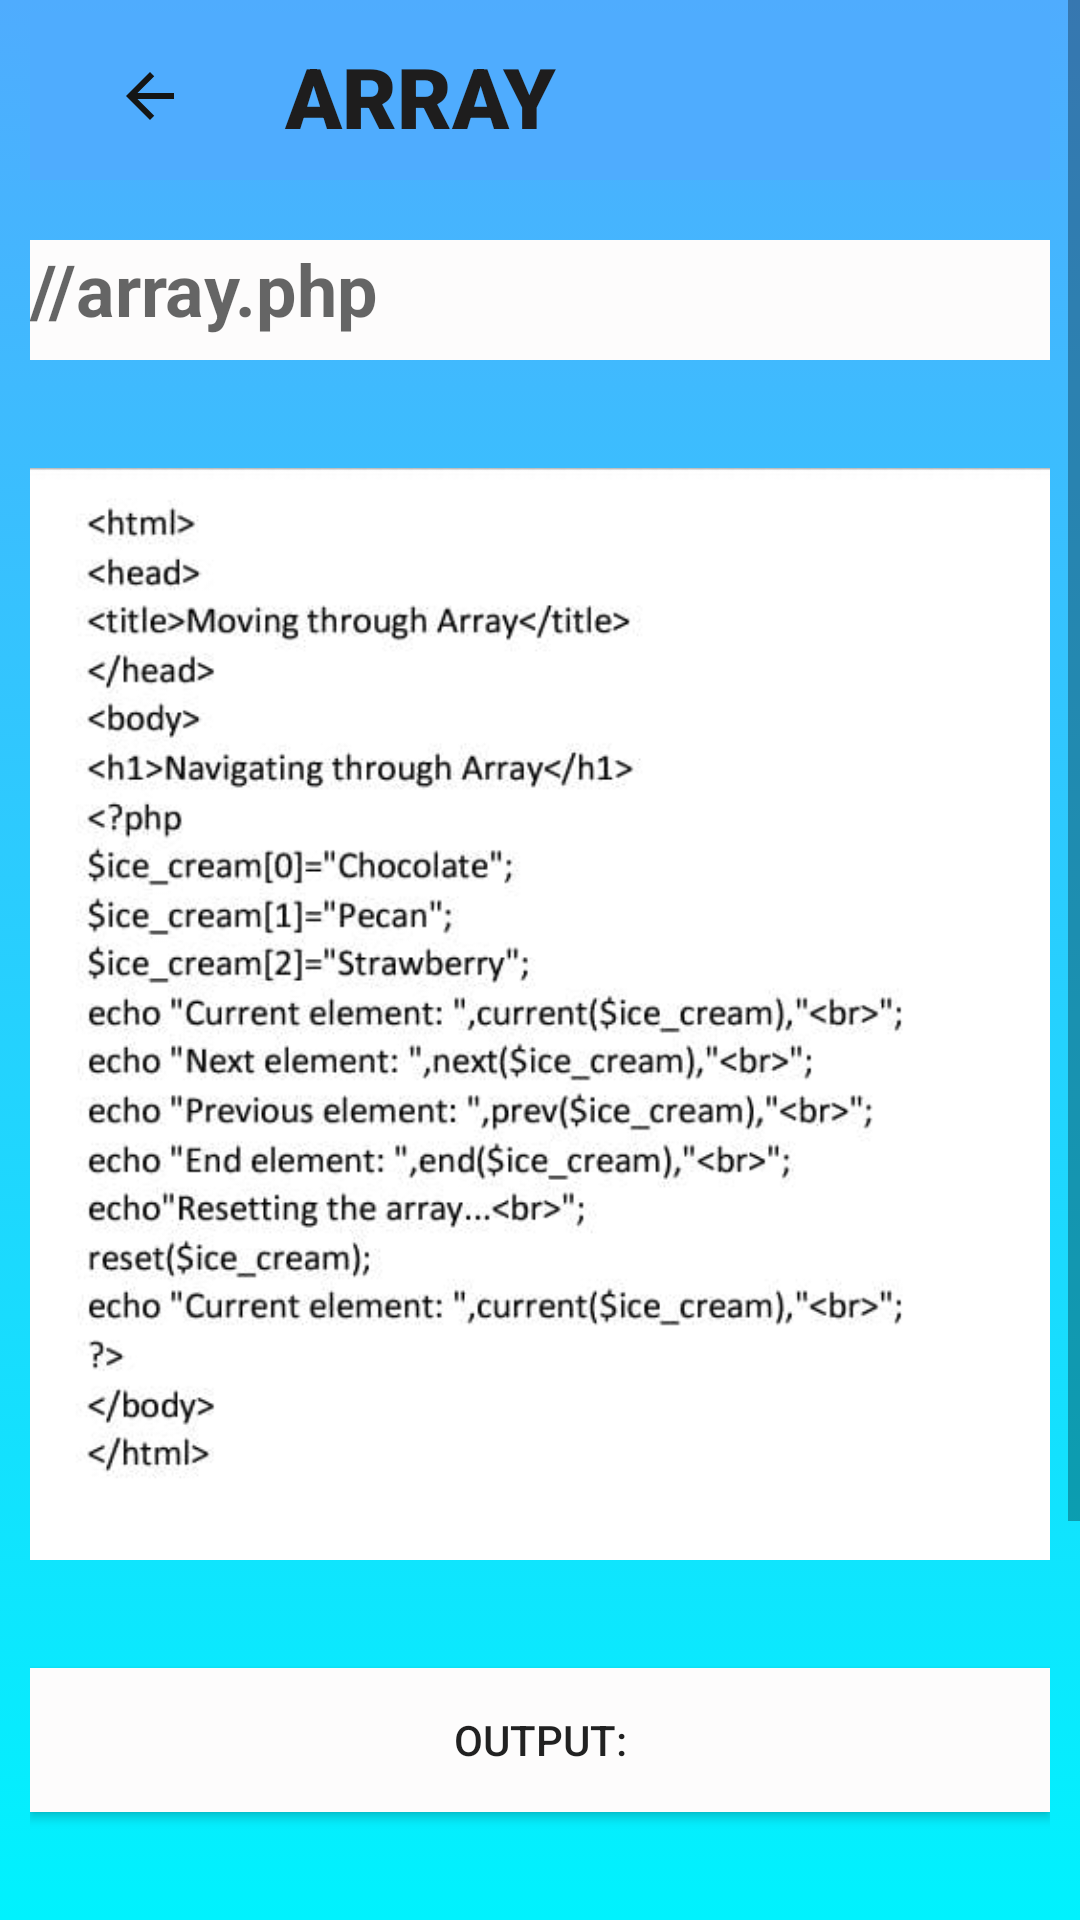

Named icons in this screenshot (1080*1920) and their centers, (x,y):
back: (150,96)
